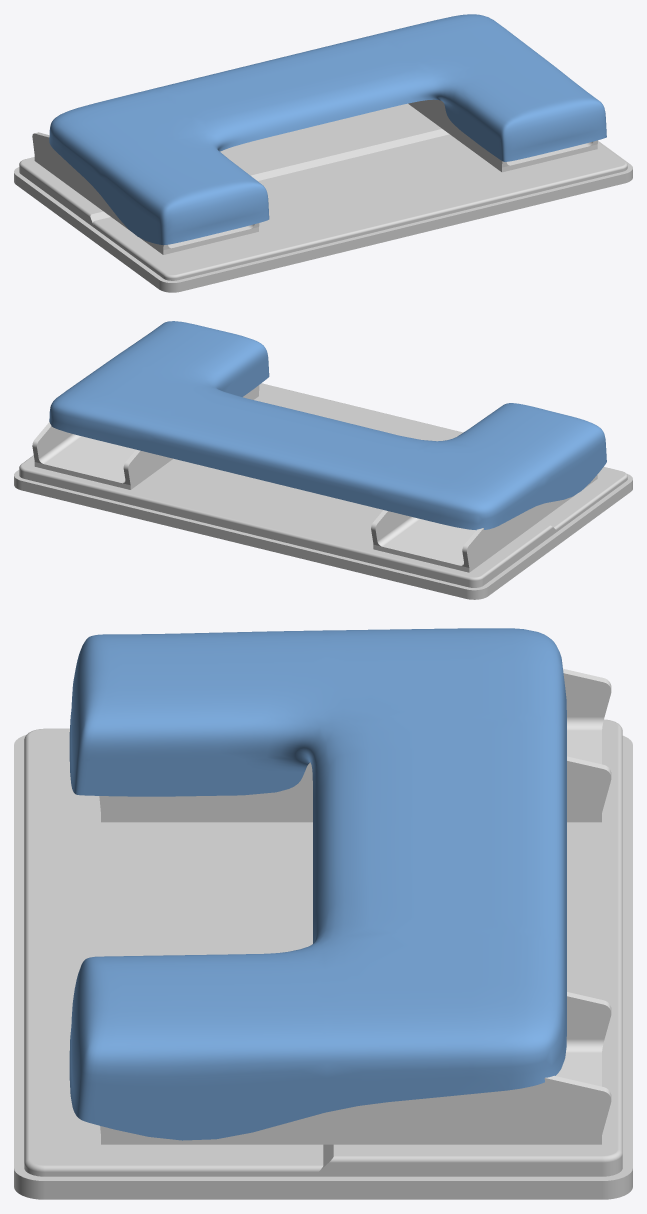
File: 230_パンチ閉.glb
3 renders of one model, top to bottom at view 1: azimuth 30°, elevation 25°; view 2: azimuth 150°, elevation 25°; view 3: azimuth 270°, elevation 25°, orthographic. The views are drawn at different scales.
Visible parts, largest first — view 1: ハンドル, body; view 2: ハンドル, body; view 3: ハンドル, body.
Boxes of the visible parts, x1,y1,x2,y2 form: ハンドル: [49, 14, 606, 245]; body: [14, 99, 632, 292]; ハンドル: [49, 321, 606, 530]; body: [14, 383, 632, 599]; ハンドル: [69, 628, 566, 1140]; body: [14, 668, 632, 1199].
Size of the model in its own units: 0.103 by 0.0162 by 0.06.
